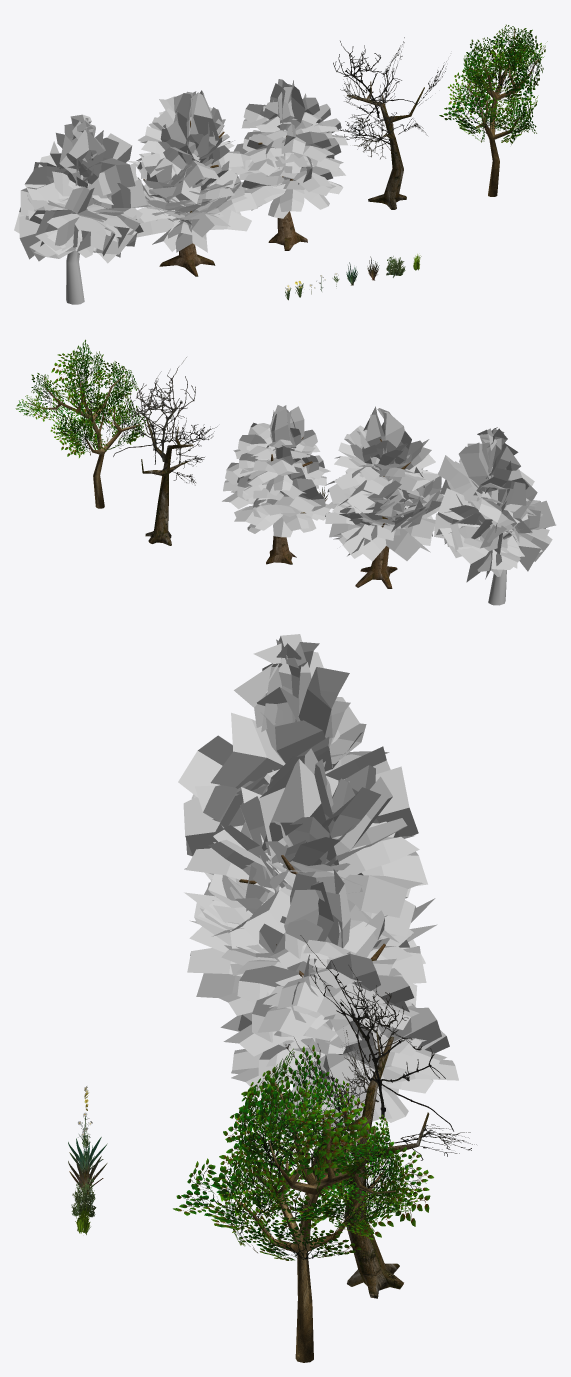
The picture shows the model from 3 angles, top to bottom: view 1: azimuth 30°, elevation 25°; view 2: azimuth 150°, elevation 25°; view 3: azimuth 270°, elevation 25°; orthographic projection. The views are drawn at different scales.
Visible parts, largest first — view 1: tree-stylized-04-green, tree-stylized-05-autumn-brown_tree-branches-autumn-mix-diffu, tree-stylized-03-autumn-yellow_tree-branches-autumn-yellow-m, tree-stylized-01, tree-stylized-02-dry, tree-stylized-05-autumn-brown, tree-stylized-03-autumn-yellow; view 2: tree-stylized-05-autumn-brown_tree-branches-autumn-mix-diffu, tree-stylized-04-green, tree-stylized-03-autumn-yellow_tree-branches-autumn-yellow-m, tree-stylized-01, tree-stylized-02-dry, tree-stylized-05-autumn-brown, tree-stylized-03-autumn-yellow; view 3: tree-stylized-03-autumn-yellow_tree-branches-autumn-yellow-m, tree-stylized-05-autumn-brown_tree-branches-autumn-mix-diffu, tree-stylized-01, tree-stylized-04-green, tree-stylized-02-dry.
Part boxes in pixels (left/top/right/bottom): tree-stylized-04-green: left=14, top=114, right=151, bottom=304; tree-stylized-05-autumn-brown_tree-branches-autumn-mix-diffu: left=127, top=90, right=257, bottom=252; tree-stylized-03-autumn-yellow_tree-branches-autumn-yellow-m: left=229, top=79, right=347, bottom=218; tree-stylized-01: left=439, top=24, right=547, bottom=196; tree-stylized-02-dry: left=333, top=37, right=446, bottom=209; tree-stylized-05-autumn-brown: left=143, top=120, right=224, bottom=276; tree-stylized-03-autumn-yellow: left=258, top=134, right=307, bottom=250; tree-stylized-05-autumn-brown_tree-branches-autumn-mix-diffu: left=325, top=406, right=443, bottom=561; tree-stylized-04-green: left=434, top=427, right=555, bottom=605; tree-stylized-03-autumn-yellow_tree-branches-autumn-yellow-m: left=222, top=405, right=331, bottom=537; tree-stylized-01: left=15, top=339, right=146, bottom=508; tree-stylized-02-dry: left=113, top=357, right=217, bottom=545; tree-stylized-05-autumn-brown: left=355, top=439, right=410, bottom=588; tree-stylized-03-autumn-yellow: left=266, top=437, right=312, bottom=564; tree-stylized-03-autumn-yellow_tree-branches-autumn-yellow-m: left=219, top=869, right=458, bottom=1137; tree-stylized-05-autumn-brown_tree-branches-autumn-mix-diffu: left=184, top=748, right=437, bottom=1031; tree-stylized-01: left=173, top=1045, right=433, bottom=1362; tree-stylized-04-green: left=178, top=634, right=418, bottom=886; tree-stylized-02-dry: left=282, top=935, right=476, bottom=1298.
Size of the model in its own units: 25.78 by 8.74 by 9.7.
